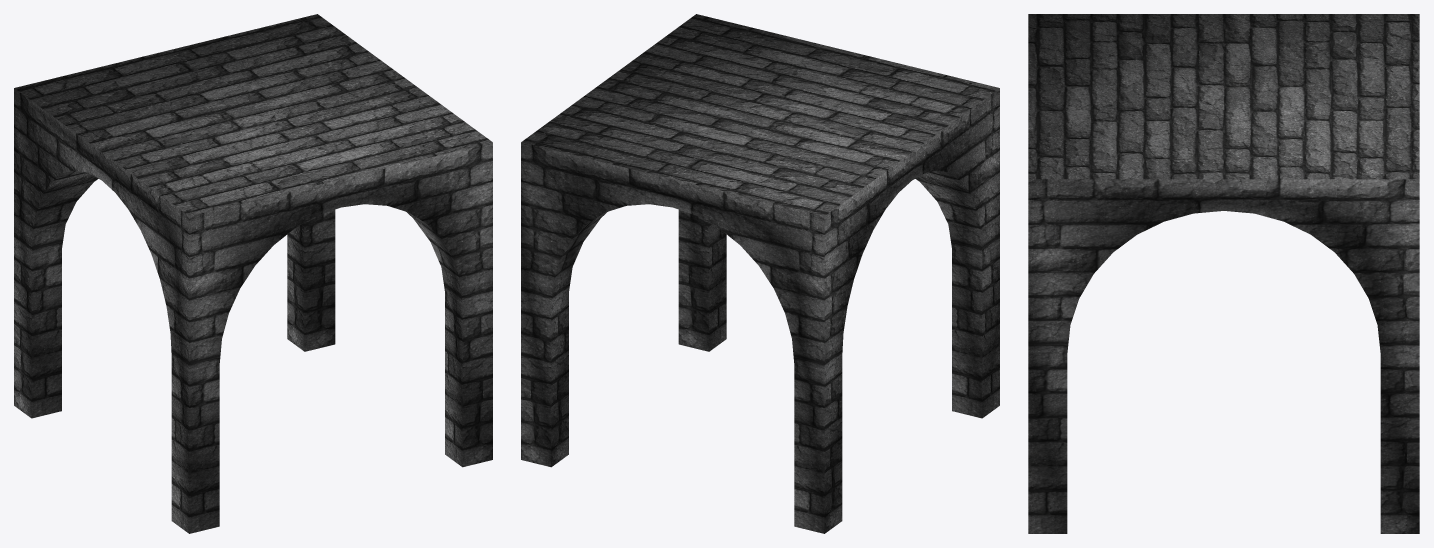
Rendered from stone block walk way4.glb.
The picture shows the model from 3 angles, left to right: view 1: azimuth 30°, elevation 25°; view 2: azimuth 150°, elevation 25°; view 3: azimuth 270°, elevation 25°; orthographic projection. The views are drawn at different scales.
Parts seen in each view (by area): view 1: Circular Vault.003; view 2: Circular Vault.003; view 3: Circular Vault.003.
Boxes of the visible parts, x1,y1,x2,y2 form: Circular Vault.003: [14, 14, 492, 533]; Circular Vault.003: [521, 14, 999, 533]; Circular Vault.003: [1028, 14, 1419, 533].
Size of the model in its own units: 2.74 by 2.74 by 2.74.
Materials: 1 (1 with a texture image).
